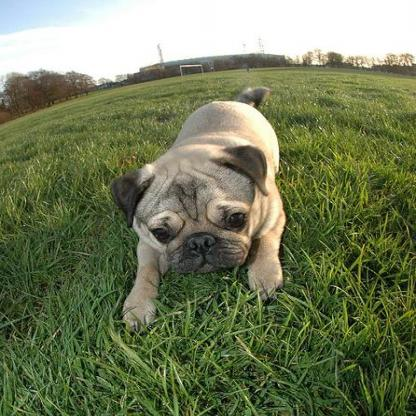pug: (106, 84, 282, 330)
